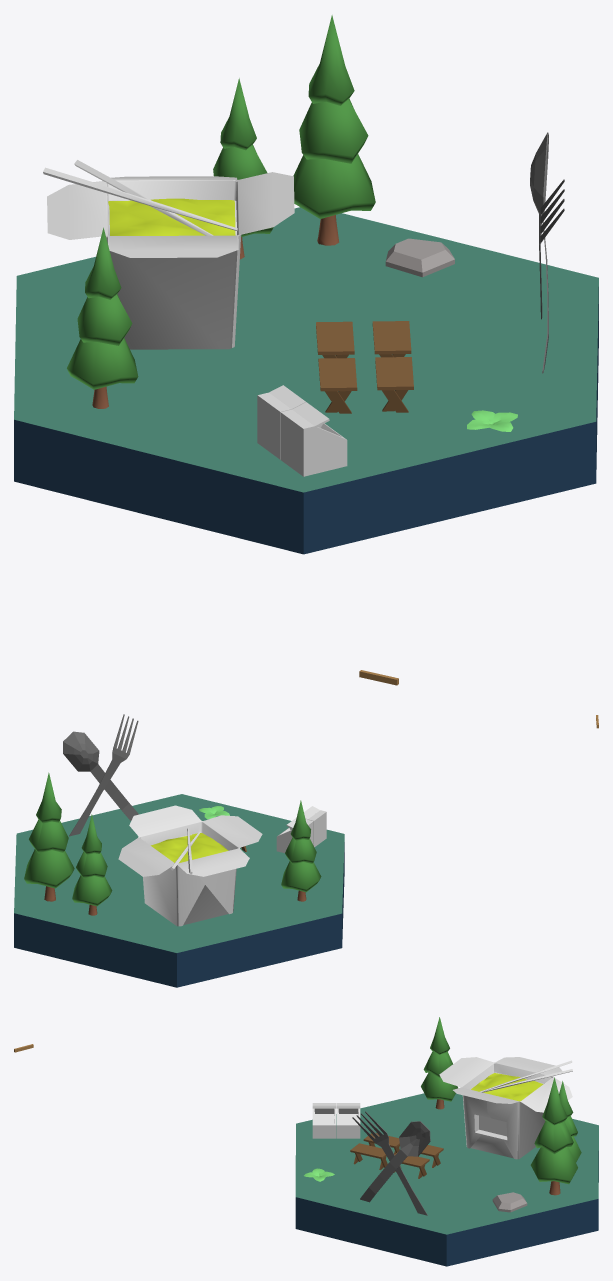
Rendered from Macro - Restaurant lvl 1 WM1.fbx.
3 renders of one model, top to bottom at view 1: azimuth 30°, elevation 25°; view 2: azimuth 150°, elevation 25°; view 3: azimuth 270°, elevation 25°, orthographic. The views are drawn at different scales.
Visible parts, largest first — view 1: Cylinder.176, Cube.108, Tree_Spruce_tiny_01.002, Tree_Spruce_tiny_01.003, Cube.003, Tree_Spruce_tiny_01.001, Rock Type4 04 mesh.013, Cube.001, table.003, table.002, table, table.001 (+1 smaller); view 2: Cylinder.176, Cube.108, Tree_Spruce_tiny_01.002, Tree_Spruce_tiny_01.003, Tree_Spruce_tiny_01.001, Plane.116, Plane.117, Cube.003, Cube.001; view 3: Cylinder.176, Cube.108, Tree_Spruce_tiny_01.002, Tree_Spruce_tiny_01.003, Plane.116, Plane.117, Cube.003, Cube.001, Tree_Spruce_tiny_01.001, Rock Type4 04 mesh.013, table.002.
Part boxes in pixels (x1,y1,x2,y2): Cylinder.176: [14, 207, 598, 554]; Cube.108: [43, 160, 294, 349]; Tree_Spruce_tiny_01.002: [293, 15, 375, 245]; Tree_Spruce_tiny_01.003: [67, 227, 138, 408]; Cube.003: [280, 402, 347, 476]; Tree_Spruce_tiny_01.001: [213, 78, 273, 259]; Rock Type4 04 mesh.013: [385, 238, 454, 277]; Cube.001: [257, 385, 305, 459]; table.003: [318, 358, 357, 413]; table.002: [375, 357, 413, 412]; table: [316, 321, 354, 358]; table.001: [372, 321, 411, 357]; Cylinder.176: [14, 794, 344, 987]; Cube.108: [118, 805, 262, 926]; Tree_Spruce_tiny_01.002: [24, 772, 74, 901]; Tree_Spruce_tiny_01.003: [281, 800, 321, 901]; Tree_Spruce_tiny_01.001: [72, 814, 112, 915]; Plane.116: [63, 731, 138, 820]; Plane.117: [69, 714, 138, 836]; Cube.003: [304, 806, 326, 847]; Cube.001: [276, 818, 313, 853]; Cylinder.176: [295, 1093, 598, 1266]; Cube.108: [439, 1057, 572, 1159]; Tree_Spruce_tiny_01.002: [530, 1077, 577, 1195]; Tree_Spruce_tiny_01.003: [421, 1017, 457, 1109]; Plane.116: [360, 1121, 430, 1202]; Plane.117: [352, 1111, 427, 1215]; Cube.003: [312, 1103, 336, 1138]; Cube.001: [336, 1103, 360, 1138]; Tree_Spruce_tiny_01.001: [559, 1081, 581, 1162]; Rock Type4 04 mesh.013: [492, 1192, 527, 1212]; table.002: [350, 1143, 387, 1169].
Size of the model in its own units: 217 by 93.23 by 332.
